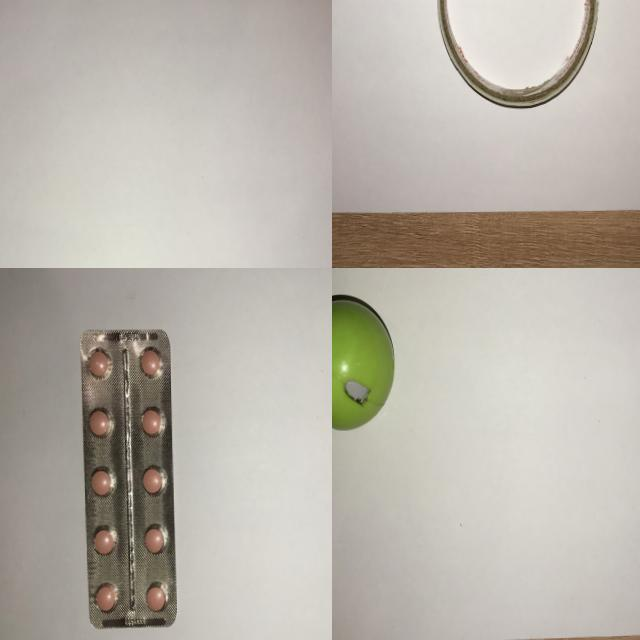scotch: (428, 0, 603, 116)
tablets: (74, 319, 182, 640)
toy: (332, 288, 401, 437)
